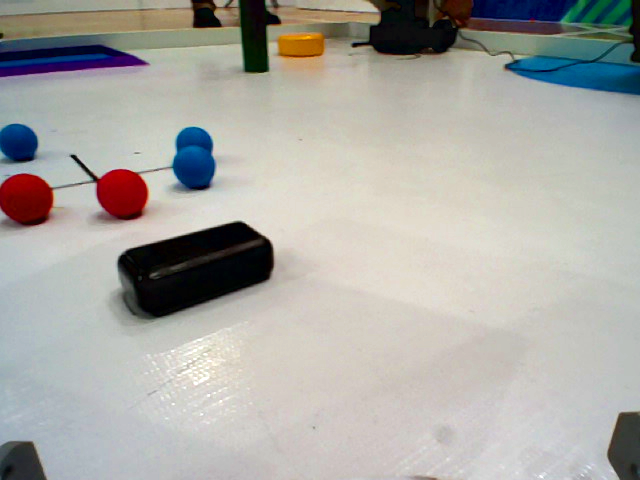black: (70, 225, 313, 330)
blue: (167, 147, 227, 187), (167, 120, 222, 158), (1, 124, 50, 158)
kuang: (1, 45, 165, 77)
red: (88, 162, 150, 231), (1, 170, 62, 228)
yellow: (233, 1, 272, 80), (273, 31, 325, 60)
